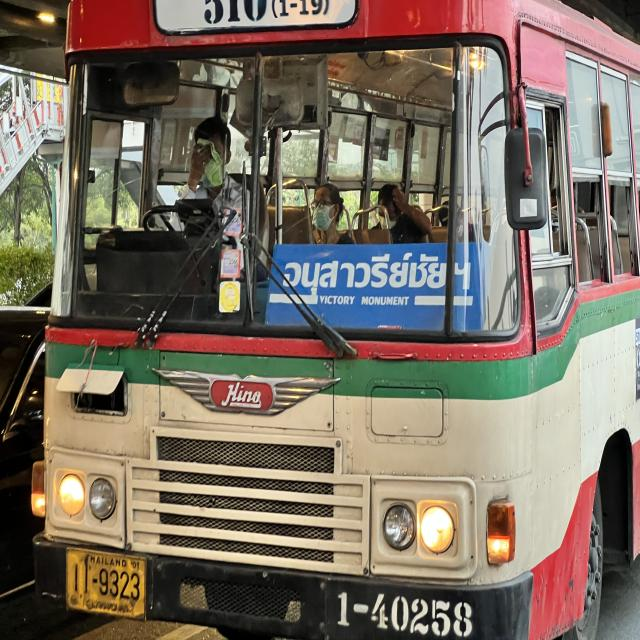BMTA-bus: (22, 0, 640, 640)
Bus-Line-Number: (149, 0, 353, 27)
Destination-Sign-Normal: (267, 246, 490, 329)
